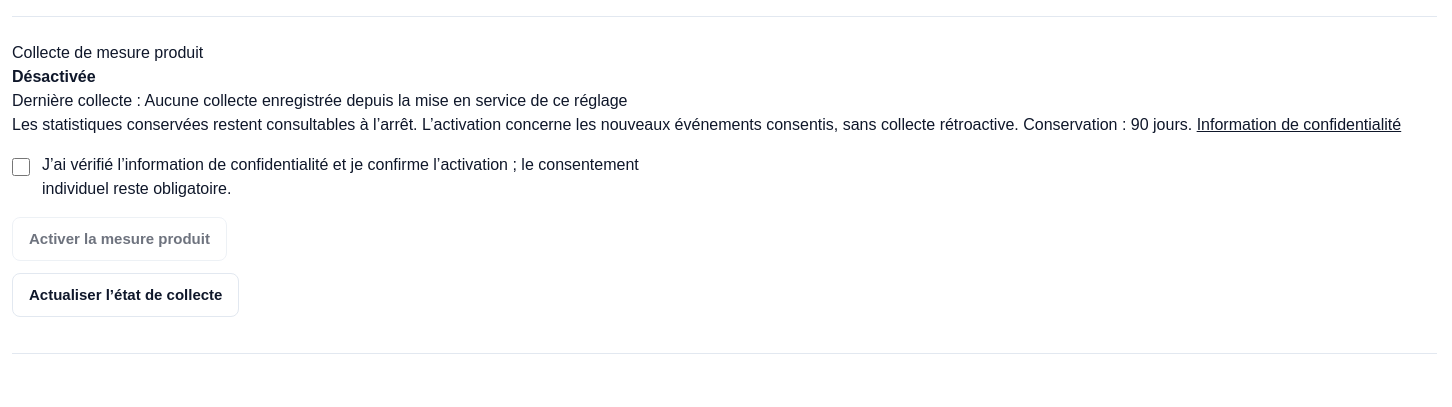
Test case: keeps the previous state visible on conflicts and requires a refresh
Click the checkbox at (21, 167), box x1=12 y1=158 x2=30 y2=176
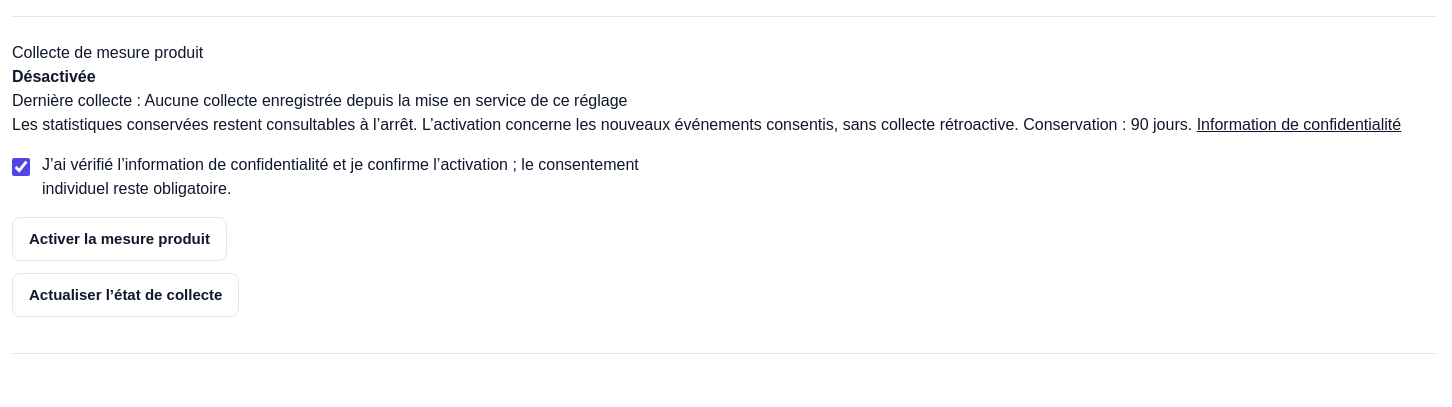
Click the switch at (119, 239), box x1=12 y1=217 x2=227 y2=261
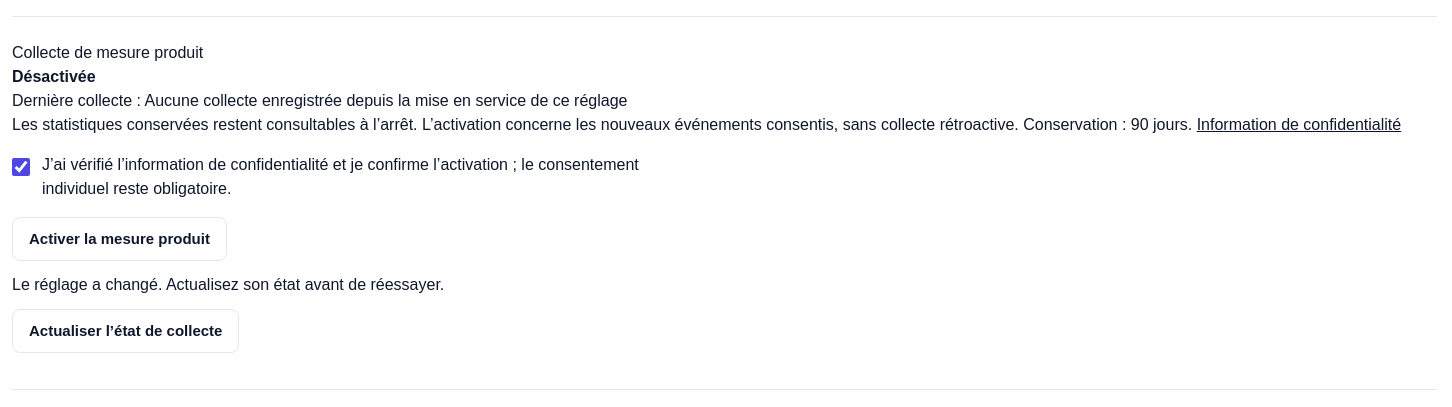
Result: the message shows "Le réglage a changé" at x1=12 y1=276 x2=444 y2=293
